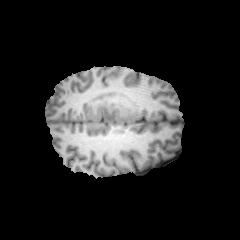glioma: (84, 91, 139, 123)
